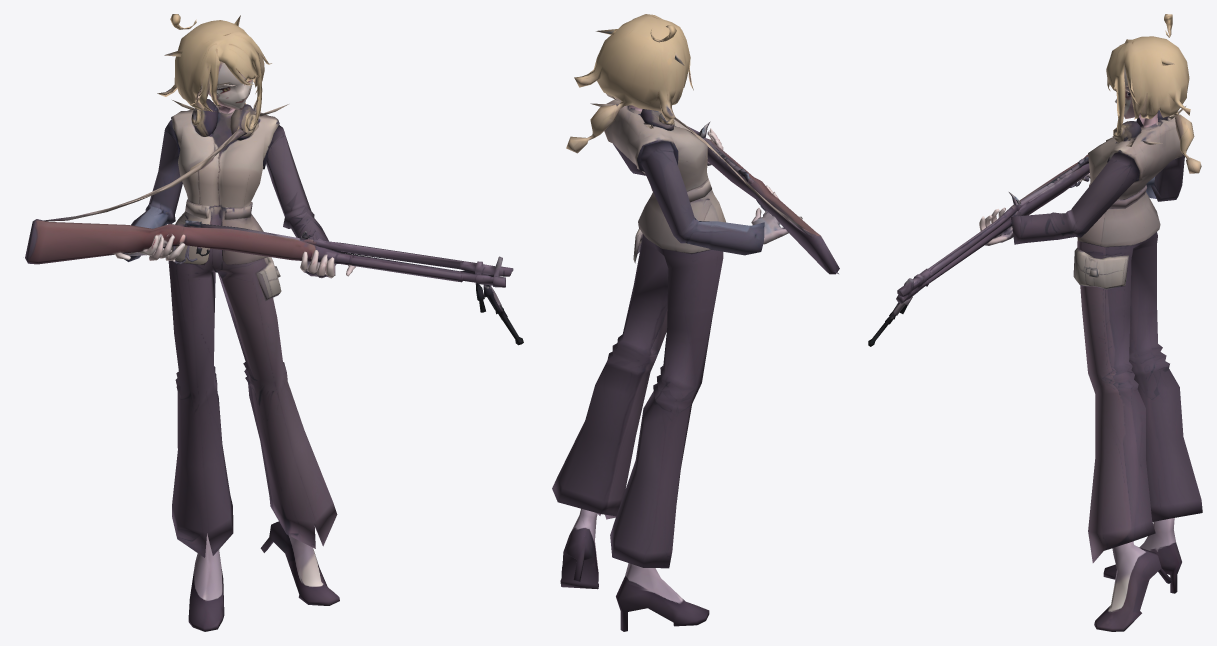
File: bullet_3.glb
3 views of the same model, side by side, from view 1: azimuth 30°, elevation 25°; view 2: azimuth 150°, elevation 25°; view 3: azimuth 270°, elevation 25° (orthographic). The views are drawn at different scales.
Visible parts, largest first — view 1: tripo_node_0f7d59e8-7ccd-478d-bba5-e3f485b0e20e; view 2: tripo_node_0f7d59e8-7ccd-478d-bba5-e3f485b0e20e; view 3: tripo_node_0f7d59e8-7ccd-478d-bba5-e3f485b0e20e.
Part boxes in pixels (x1,y1,x2,y2): tripo_node_0f7d59e8-7ccd-478d-bba5-e3f485b0e20e: (25,14,523,631); tripo_node_0f7d59e8-7ccd-478d-bba5-e3f485b0e20e: (552,14,839,631); tripo_node_0f7d59e8-7ccd-478d-bba5-e3f485b0e20e: (868,14,1202,631).
Bounding box in the file's own units: 0.6348 × 0.998 × 0.541.
1 material, 1 textured.
